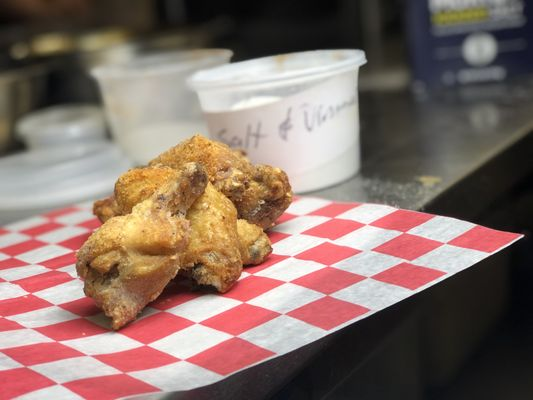pizza: (188, 48, 367, 194), (89, 47, 235, 167)
